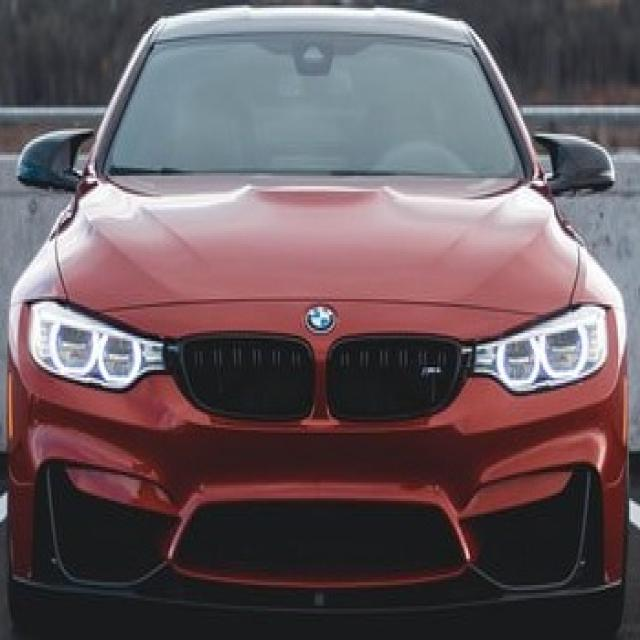maroon: (5, 5, 640, 609)
